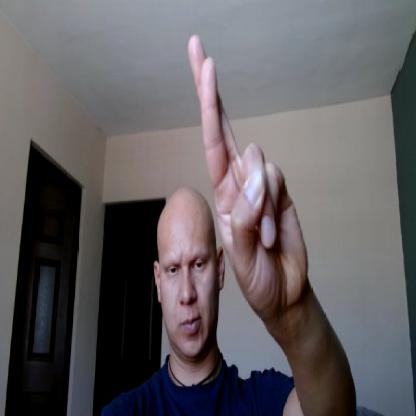R: (187, 33, 310, 306)
